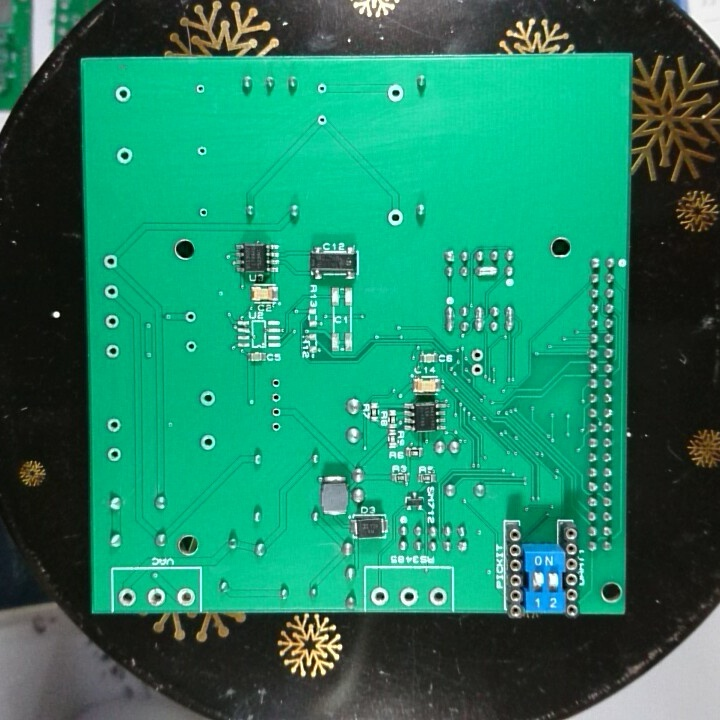F: (367, 585, 391, 609), (397, 584, 419, 609), (427, 585, 449, 609), (112, 83, 134, 106), (174, 586, 197, 608), (117, 586, 138, 607), (385, 206, 405, 228), (385, 81, 405, 103), (114, 144, 134, 166), (198, 388, 218, 410), (145, 586, 166, 606), (199, 432, 217, 454), (103, 341, 121, 362), (102, 252, 120, 272), (105, 415, 123, 435), (102, 283, 121, 301), (105, 444, 123, 463), (103, 312, 122, 329), (266, 419, 286, 435), (182, 307, 198, 326), (182, 338, 199, 355), (468, 346, 485, 363), (468, 363, 485, 378), (314, 111, 329, 127), (194, 143, 210, 158), (268, 403, 282, 420), (315, 80, 328, 98), (268, 389, 283, 404), (193, 82, 207, 98), (268, 375, 282, 390), (197, 205, 210, 220)
P: (471, 263, 499, 280), (443, 304, 457, 335), (472, 303, 485, 333), (503, 303, 515, 332)
